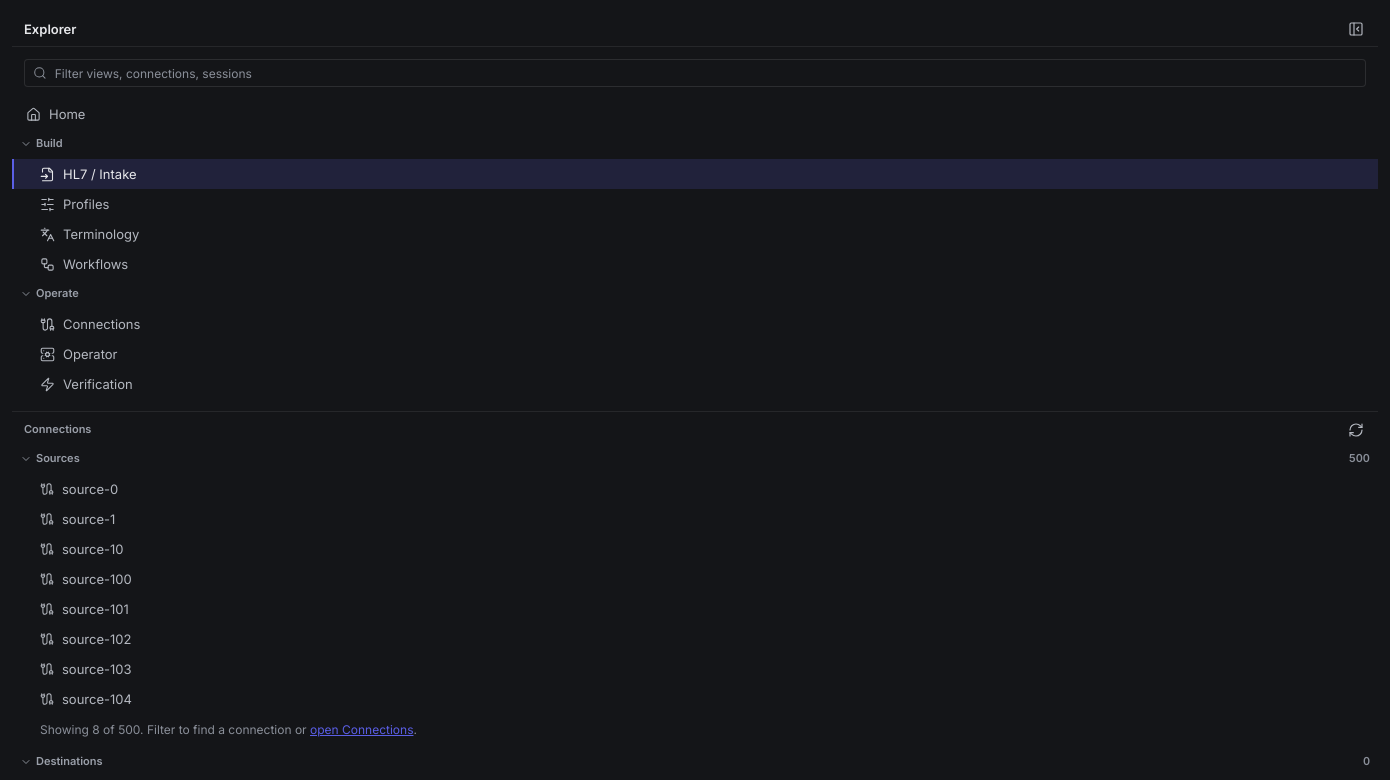
Test: Explorer connections › explains the catalog limit without rendering hundreds of rows
Type "source-499" into the field named "Filter explorer" at [710, 73], box left=55, top=60, right=1365, bottom=86
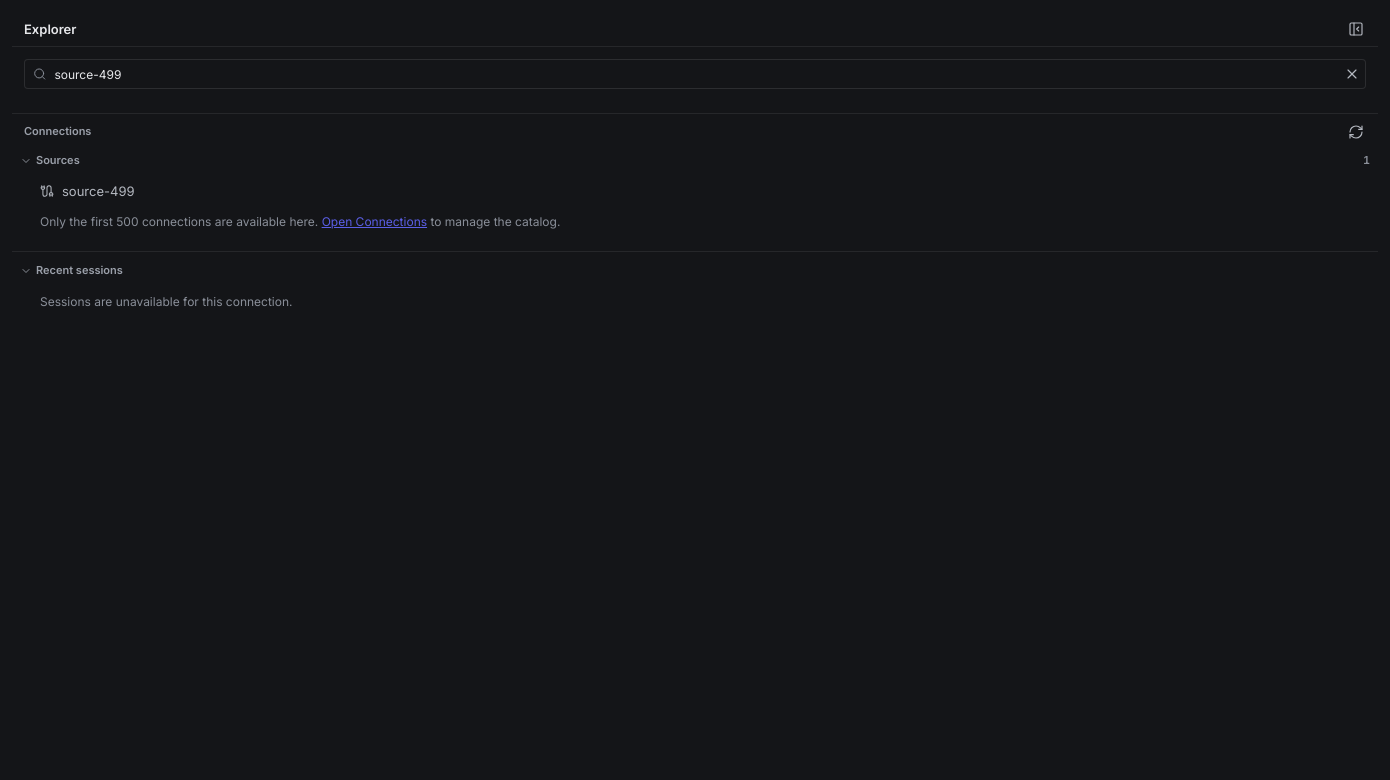
Expected: the link "source-499" is shown, left=40, top=183, right=134, bottom=199
